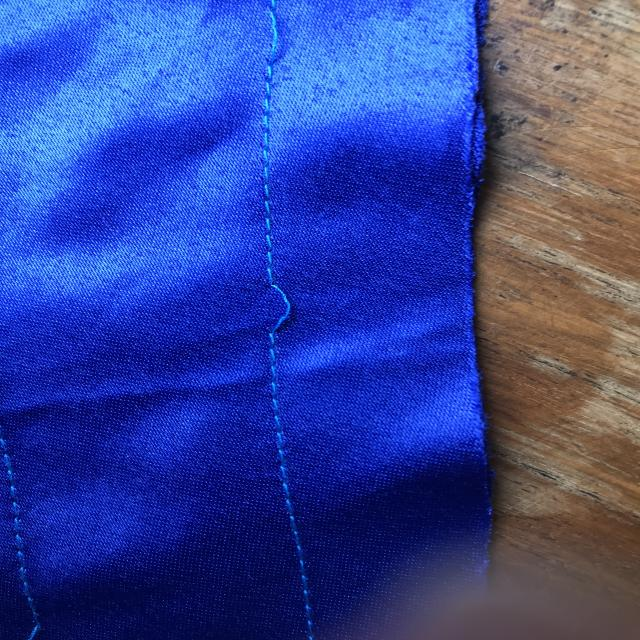good: (249, 103, 298, 236)
skip: (232, 1, 326, 74), (258, 256, 307, 360)
